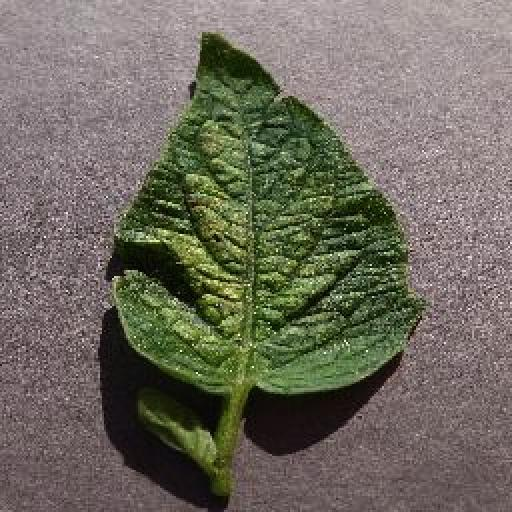disease_tomato: (112, 27, 424, 397)
